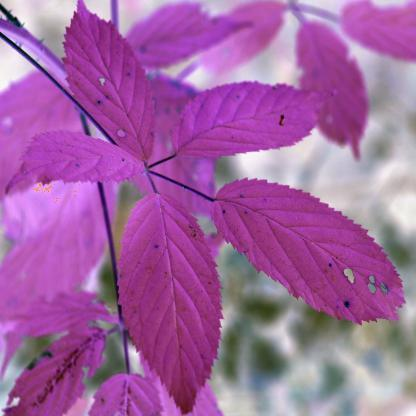Raspberry leaf: (213, 173, 408, 330), (114, 190, 226, 416), (62, 0, 158, 164), (175, 81, 334, 162), (0, 128, 136, 202)
